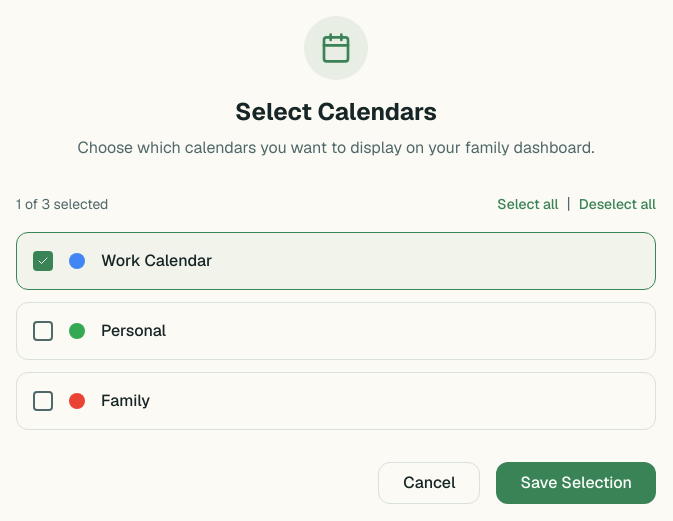
CalendarConnectPage › handles deselect all
Click the button "Deselect all". click: (617, 204)
box: left=579, top=192, right=656, bottom=216
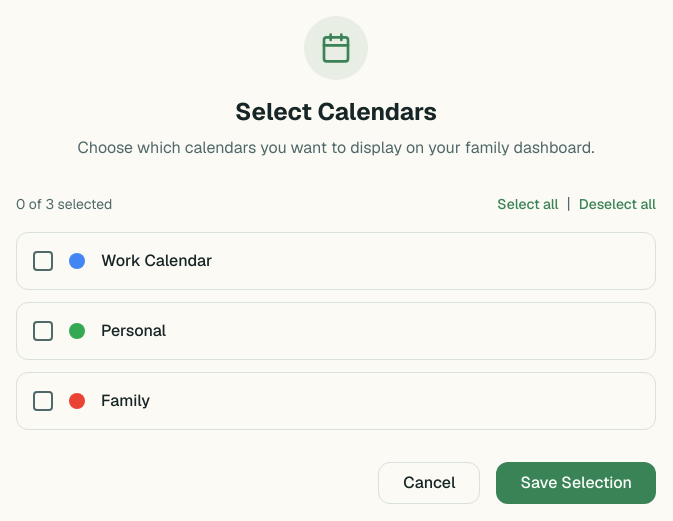
Now the text "0 of 3 selected" is shown, box left=16, top=194, right=112, bottom=214
